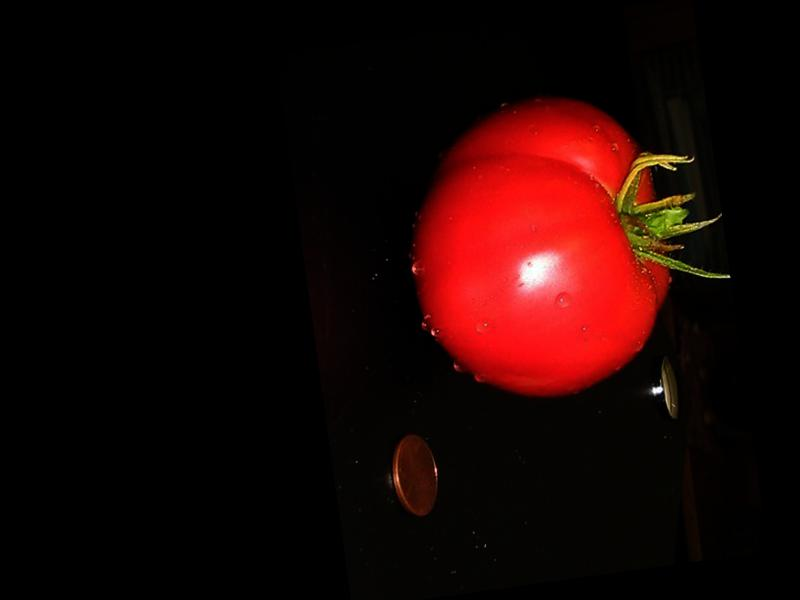Tomato: (389, 79, 686, 413)
